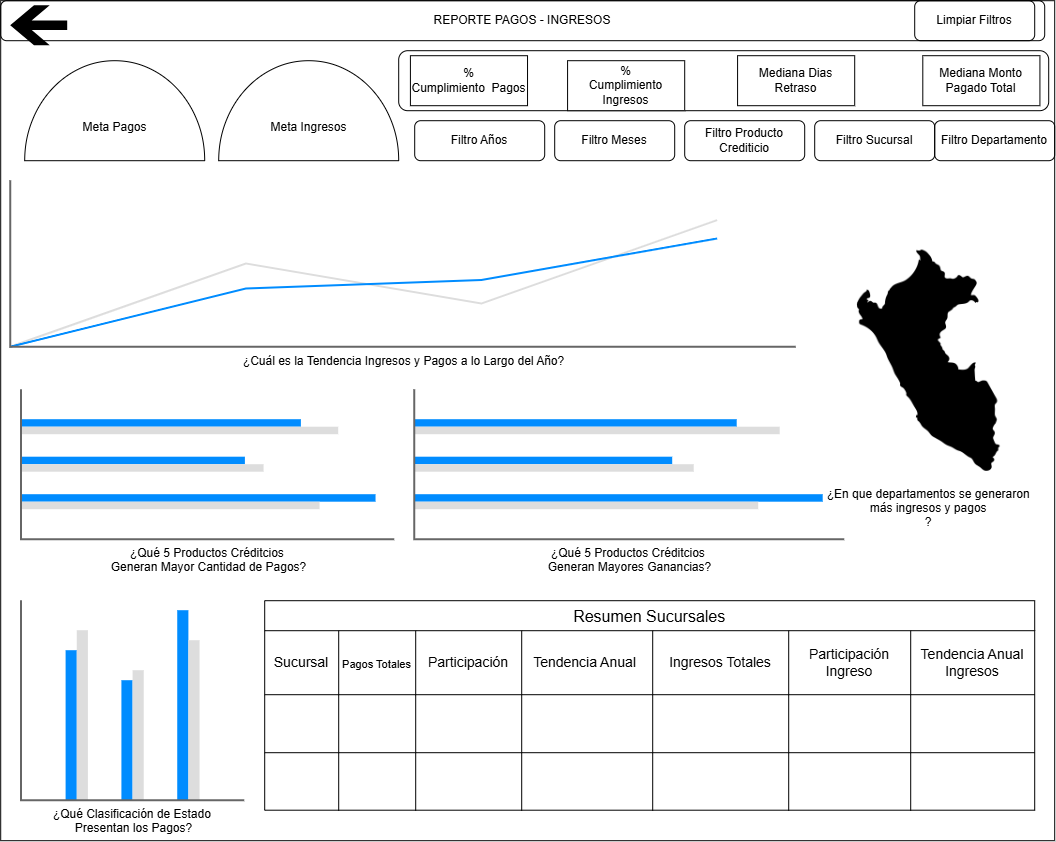

The dashboard page shown, as its layout file describes it:
{"tool":"powerbi","page":{"name":"Pagos-Ingresos Bancarios","canvas":[1920,1450],"ordinal":1},"visuals":[{"type":"slicer","fields":{"Values":["dim_fechas.Año"]},"box":[711.6,253.9,161.7,125],"z":0},{"type":"slicer","fields":{"Values":["dim_fechas.Numero Mes"]},"box":[865.4,259.3,266.4,171.7],"z":1000},{"type":"slicer","fields":{"Values":["dim_sucursales.departamento"]},"box":[1131.8,255.7,215,136.7],"z":2000},{"type":"slicer","fields":{"Values":["dim_sucursales.nombre_sucursal"]},"box":[1346.7,255,283.3,135],"z":3000},{"type":"slicer","fields":{"Values":["dim_productos_crediticios.nombre_producto"]},"box":[1630,253.3,290,130],"z":4000},{"type":"shape","box":[0,0,1920,87.1],"z":5000},{"type":"textbox","box":[399.9,0,1120.2,88.2],"z":6000},{"type":"clusteredBarChart","title":"¿Cuál es el Estado de los Préstamos?","fields":{"Category":["fact_pagos.estado_pago"],"Y":["Metricas.Cantidad Ingresos"]},"box":[0,1094.3,670.5,355.8],"z":8000},{"type":"pivotTable","title":"Resumen Sucursales","fields":{"Rows":["dim_sucursales.nombre_sucursal"],"Values":["Metricas.Cantidad Ingresos","Divide(Metricas.Cantidad Ingresos, ScopedEval(Metricas.Cantidad Ingresos, []))","SparklineData(Metricas.Cantidad Ingresos_[dim_fechas.Numero Mes])","Count(fact_pagos.referencia_pago)","Divide(Count(fact_pagos.referencia_pago), ScopedEval(Count(fact_pagos.referencia_pago), []))","SparklineData(Count(fact_pagos.referencia_pago)_[dim_fechas.Numero Mes])"]},"box":[690.2,1092.1,1230.2,357.6],"z":9000},{"type":"clusteredBarChart","title":"¿Qué 5 Productos Crediticios Tienen más Pagos?","fields":{"Category":["dim_productos_crediticios.nombre_producto"],"Y":["Count(fact_pagos.referencia_pago)"]},"box":[0,750.4,772,328],"z":10000},{"type":"shape","box":[703.3,100,1216.7,160],"z":12000},{"type":"Tachometer1474636471549","title":"Meta Ingresos","fields":{"Y":["Metricas.Cantidad Ingresos"],"TargetValue":["Valores Termometro Ingresos.META INGRESOS"],"StartValue":["Valores Termometro Ingresos.valor_inicio_termo_ingre"],"EndValue":["Valores Termometro Ingresos.valor_final_termo_ingreso"],"Range2StartValue":["Valores Termometro Ingresos.inicio_rango_2_termo_ingresos"],"Range3StartValue":["Valores Termometro Ingresos.inicio_rango_3_termo_ingresos"]},"box":[352.2,100.1,337.9,291.5],"z":13000},{"type":"lineChart","title":"¿Cuál es la Tendencia de Ingresos y Pagos a lo Largo del Año?","fields":{"Category":["dim_fechas.Nombre Mes"],"Series":["dim_fechas.Año"],"Y":["Metricas.Cantidad Ingresos"]},"box":[0,408.5,1563.1,326.8],"z":14000},{"type":"shapeMap","title":"¿En que Departamentos se Generaron más Ingresos y Pagos?","fields":{"Category":["dim_sucursales.departamento"],"Value":["Metricas.Cantidad Ingresos"]},"box":[1580.6,407.7,339.7,668.7],"z":15000},{"type":"clusteredBarChart","title":"¿Qué 5 Productos Crediticios Generan más Ingresos?","fields":{"Category":["dim_productos_crediticios.nombre_producto"],"Y":["Metricas.Cantidad Ingresos"]},"box":[792,750,772,328],"z":16000},{"type":"Tachometer1474636471549","title":"Meta Pagos","fields":{"Y":["Count(fact_pagos.referencia_pago)"],"TargetValue":["Valores Termometro Pagos.META PAGOS"],"StartValue":["Valores Termometro Pagos.valor_inicio_termo_pagos"],"EndValue":["Valores Termometro Pagos.valor_final_termo_pagos"],"Range2StartValue":["Valores Termometro Pagos.inicio_rango_2_termo_pagos"],"Range3StartValue":["Valores Termometro Pagos.inicio_rango_3_termo_pagos"]},"box":[0,100,336,290],"z":17000},{"type":"cardVisual","fields":{"Data":["Metricas.kpi_porcentaje_cumplimiento_pagos"]},"box":[703.3,100,321.7,160],"z":18000},{"type":"cardVisual","fields":{"Data":["Metricas.kpi_porcentaje_cumplimiento_ingresos"]},"box":[998.3,100,348.3,160],"z":19000},{"type":"cardVisual","fields":{"Data":["Median(fact_pagos.dias_retraso)"]},"box":[1346.7,100,251.7,160],"z":20000},{"type":"cardVisual","fields":{"Data":["Median(fact_pagos.rec_monto_pagado_total)"]},"box":[1598.3,100,321.7,160],"z":21000},{"type":"actionButton","box":[1714.7,10.7,191.3,66.2],"z":22000},{"type":"actionButton","box":[0,0,98.3,87.6],"z":23000}]}

Visuals, with their boxes on the page's 1920x1450 design canvas (x1, y1, x2, y2). These are canvas units, not pixel positions in the 1056x842 screenshot, which may show the page scaled, cropped or inside an application window:
slicer - dim_fechas.Año: bbox=(712, 254, 873, 379)
slicer - dim_fechas.Numero Mes: bbox=(865, 259, 1132, 431)
slicer - dim_sucursales.departamento: bbox=(1132, 256, 1347, 392)
slicer - dim_sucursales.nombre_sucursal: bbox=(1347, 255, 1630, 390)
slicer - dim_productos_crediticios.nombre_producto: bbox=(1630, 253, 1920, 383)
shape: bbox=(0, 0, 1920, 87)
textbox: bbox=(400, 0, 1520, 88)
"¿Cuál es el Estado de los Préstamos?" clusteredBarChart: bbox=(0, 1094, 670, 1450)
"Resumen Sucursales" pivotTable: bbox=(690, 1092, 1920, 1450)
"¿Qué 5 Productos Crediticios Tienen más Pagos?" clusteredBarChart: bbox=(0, 750, 772, 1078)
shape: bbox=(703, 100, 1920, 260)
"Meta Ingresos" Tachometer1474636471549: bbox=(352, 100, 690, 392)
"¿Cuál es la Tendencia de Ingresos y Pagos a lo Largo del Año?" lineChart: bbox=(0, 408, 1563, 735)
"¿En que Departamentos se Generaron más Ingresos y Pagos?" shapeMap: bbox=(1581, 408, 1920, 1076)
"¿Qué 5 Productos Crediticios Generan más Ingresos?" clusteredBarChart: bbox=(792, 750, 1564, 1078)
"Meta Pagos" Tachometer1474636471549: bbox=(0, 100, 336, 390)
cardVisual - Metricas.kpi_porcentaje_cumplimiento_pagos: bbox=(703, 100, 1025, 260)
cardVisual - Metricas.kpi_porcentaje_cumplimiento_ingresos: bbox=(998, 100, 1347, 260)
cardVisual - Median(fact_pagos.dias_retraso): bbox=(1347, 100, 1598, 260)
cardVisual - Median(fact_pagos.rec_monto_pagado_total): bbox=(1598, 100, 1920, 260)
actionButton: bbox=(1715, 11, 1906, 77)
actionButton: bbox=(0, 0, 98, 88)
